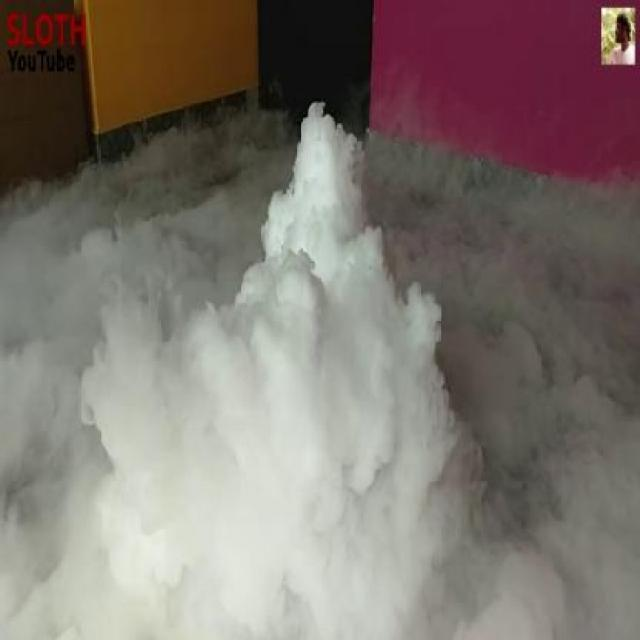smoke: (96, 94, 553, 614)
